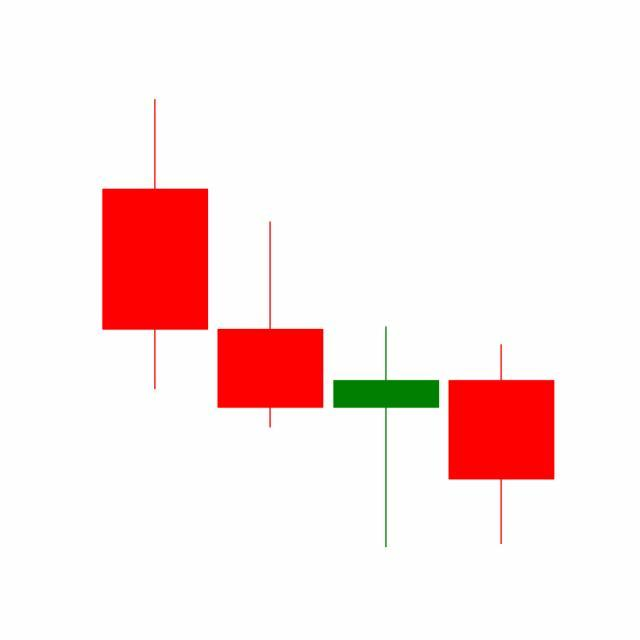Spinning Top: (329, 324, 445, 551)
